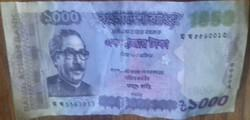1000 taka: (2, 2, 240, 117)
